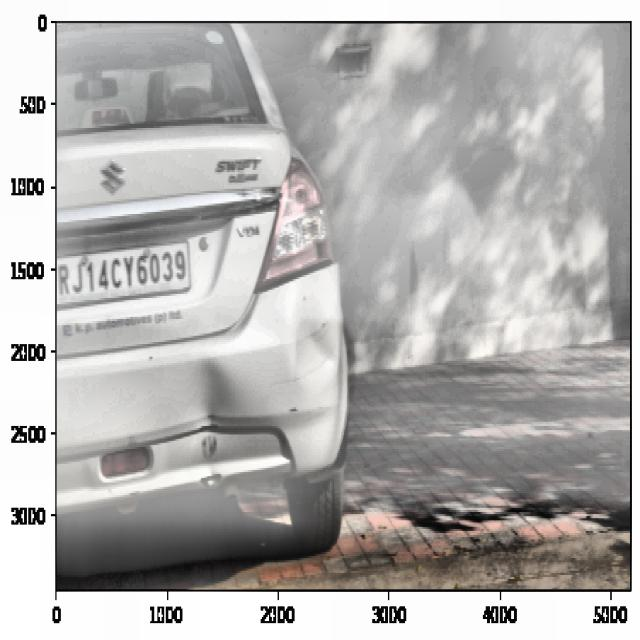license_plate: (54, 248, 189, 299)
